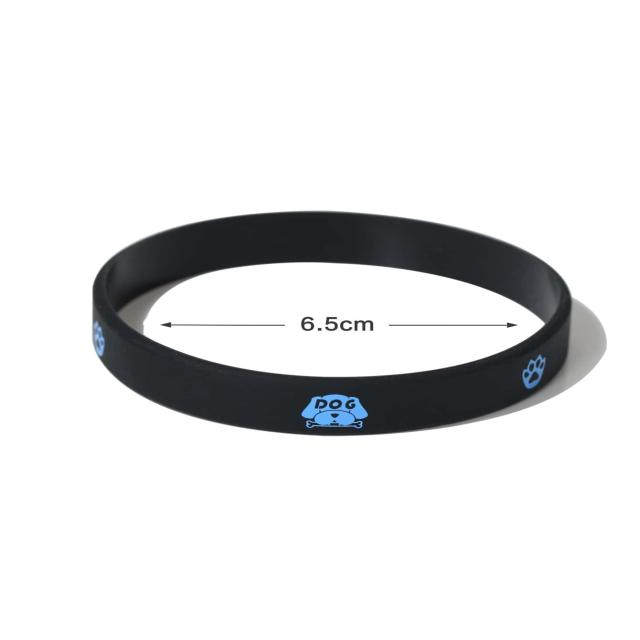bracelet: (29, 154, 640, 463)
